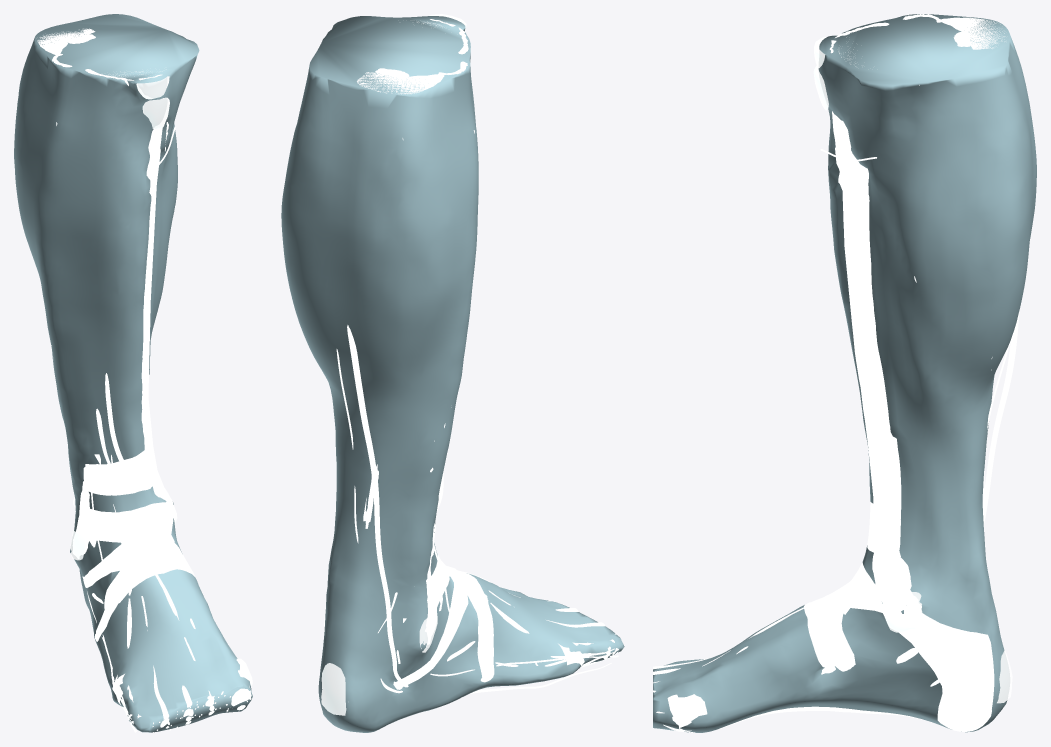
Rendered from leg_foot.glb.
The picture shows the model from 3 angles, left to right: view 1: azimuth 30°, elevation 25°; view 2: azimuth 150°, elevation 25°; view 3: azimuth 270°, elevation 25°; orthographic projection. The views are drawn at different scales.
Visible parts, largest first — view 1: Crural fascia.r, Tibia.r, Superior fibular retinaculum.r, Superior extensor retinaculum of ankle.r, Inferior extensor retinaculum of ankle.r, Tendon of extensor digitorum longus.r, Inferior fibular retinaculum.r, Fibula.r, Tendon sheath of extensor digitorum longus.r, Lateral head of gastrocnemius.r, Subcutaneous bursa of tuberosity of tibia.r, Anterior tibial artery.r.001 (+2 smaller); view 2: Crural fascia.r, Small saphenous vein.r.001, Superior fibular retinaculum.r, Inferior fibular retinaculum.r, Lateral head of gastrocnemius.r, Subcutaneous calcaneal bursa.r, Sural nerve.r.001, Tendon of extensor digitorum longus.r, Fibula.r; view 3: Crural fascia.r, Tibia.r, Flexor retinaculum of ankle.r, Superior fibular retinaculum.r, Small saphenous vein.r.001, Lateral head of gastrocnemius.r, Subcutaneous bursa of medial malleolus.r, Articular capsules of metatarsophalangeal joints.r, Plantar aponeurosis.r.
Boxes of the visible parts, x1,y1,x2,y2 form: Crural fascia.r: (14, 14, 252, 732); Tibia.r: (108, 69, 176, 522); Superior fibular retinaculum.r: (82, 509, 195, 587); Superior extensor retinaculum of ankle.r: (85, 450, 152, 495); Inferior extensor retinaculum of ankle.r: (90, 502, 172, 542); Tendon of extensor digitorum longus.r: (127, 532, 213, 719); Inferior fibular retinaculum.r: (96, 570, 151, 636); Fibula.r: (73, 464, 90, 558); Tendon sheath of extensor digitorum longus.r: (94, 454, 153, 576); Lateral head of gastrocnemius.r: (37, 28, 95, 54); Subcutaneous bursa of tuberosity of tibia.r: (142, 97, 169, 129); Anterior tibial artery.r.001: (105, 373, 132, 481); Crural fascia.r: (281, 16, 624, 732); Small saphenous vein.r.001: (347, 325, 448, 687); Superior fibular retinaculum.r: (396, 568, 472, 686); Inferior fibular retinaculum.r: (468, 575, 494, 676); Lateral head of gastrocnemius.r: (357, 72, 444, 140); Subcutaneous calcaneal bursa.r: (321, 663, 346, 715); Sural nerve.r.001: (336, 349, 605, 676); Tendon of extensor digitorum longus.r: (446, 566, 614, 645); Fibula.r: (425, 533, 436, 643); Crural fascia.r: (653, 14, 1036, 732); Tibia.r: (832, 37, 921, 630); Flexor retinaculum of ankle.r: (899, 613, 994, 731); Superior fibular retinaculum.r: (804, 580, 882, 667); Small saphenous vein.r.001: (982, 310, 1019, 525); Lateral head of gastrocnemius.r: (940, 17, 1005, 49); Subcutaneous bursa of medial malleolus.r: (884, 591, 922, 632); Articular capsules of metatarsophalangeal joints.r: (667, 694, 722, 732); Plantar aponeurosis.r: (713, 706, 923, 730).
Size of the model in its own units: 0.1135 by 0.4066 by 0.2071.
